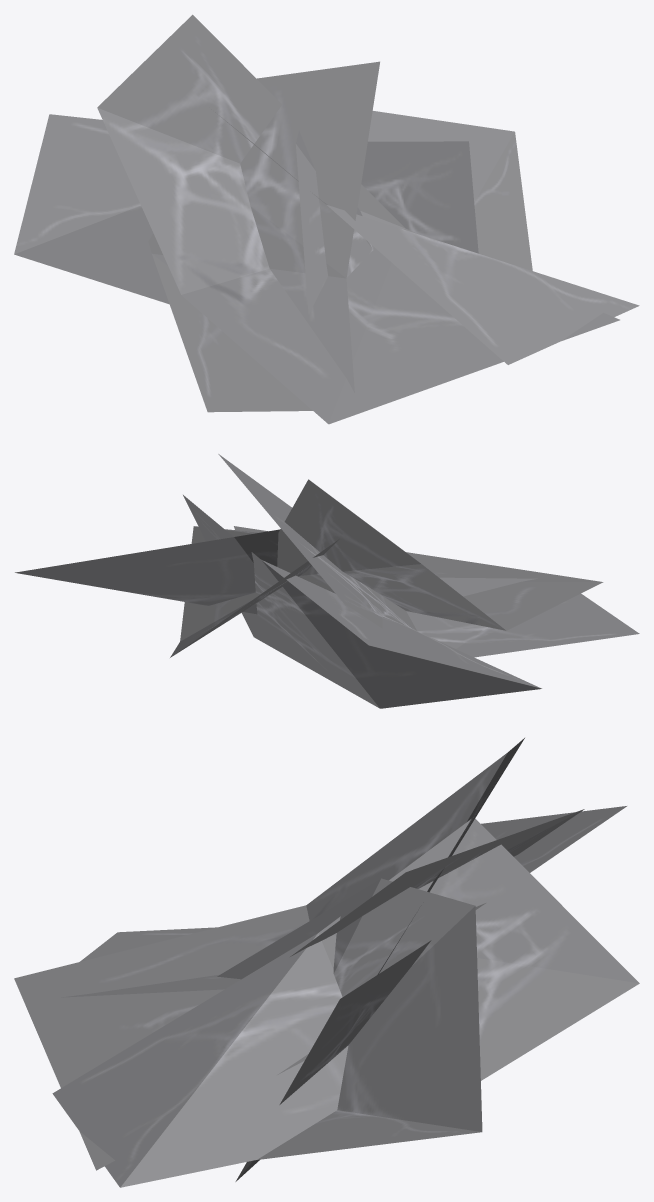
The model's file is fb_csd_zhuwang_b.FBX.
The picture shows the model from 3 angles, top to bottom: view 1: azimuth 30°, elevation 25°; view 2: azimuth 150°, elevation 25°; view 3: azimuth 270°, elevation 25°; orthographic projection. The views are drawn at different scales.
Visible parts, largest first — view 1: fb_csd_zhuwang_b; view 2: fb_csd_zhuwang_b; view 3: fb_csd_zhuwang_b.
Boxes of the visible parts, x1,y1,x2,y2 form: fb_csd_zhuwang_b: [14, 14, 639, 424]; fb_csd_zhuwang_b: [15, 454, 639, 708]; fb_csd_zhuwang_b: [14, 738, 639, 1187].
Bounding box in the file's own units: 114 × 60.77 × 100.
